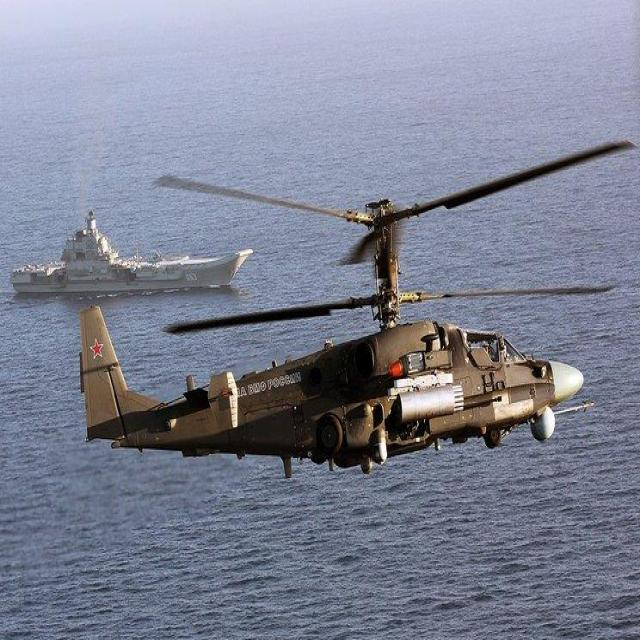MIL_HELO: (63, 137, 640, 490)
